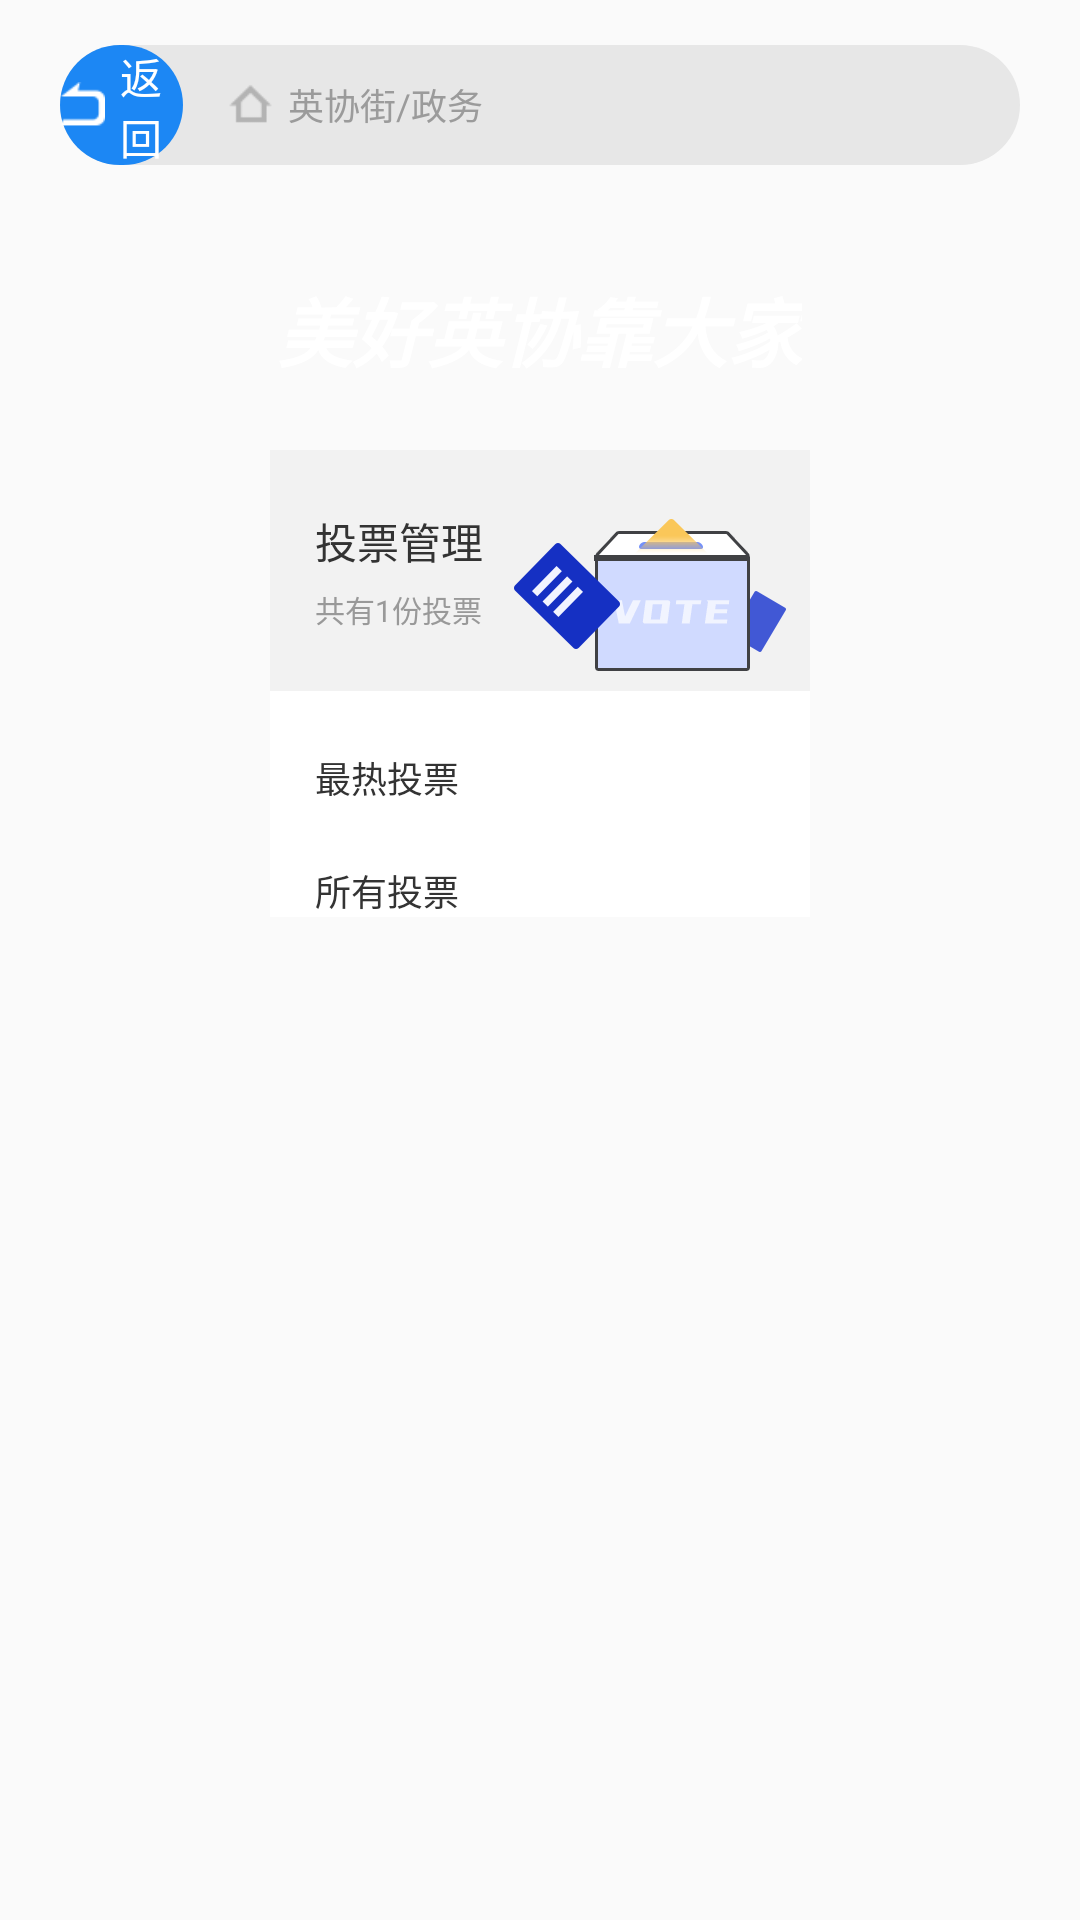

Icons on this 1080px×1920px Android screen, each with the point to tap as (x=x, y=y):
crumb home: (x=250, y=104)
